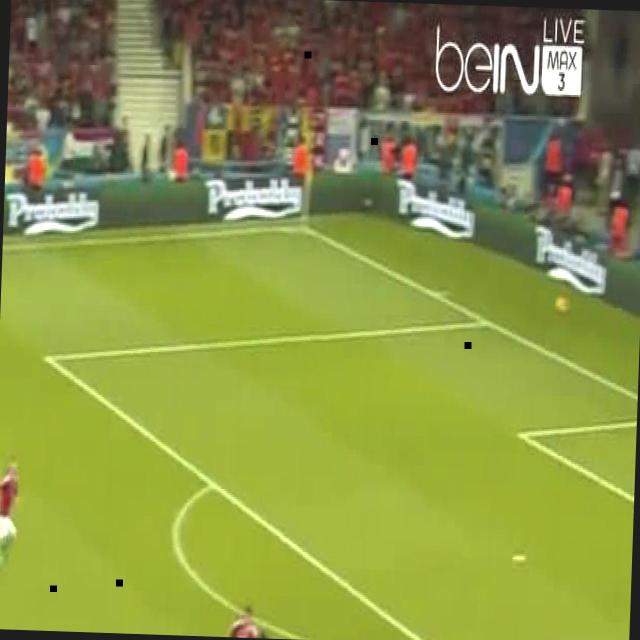ball: (555, 294, 569, 313)
player-white: (0, 456, 20, 570), (226, 603, 272, 639), (238, 632, 271, 638)
